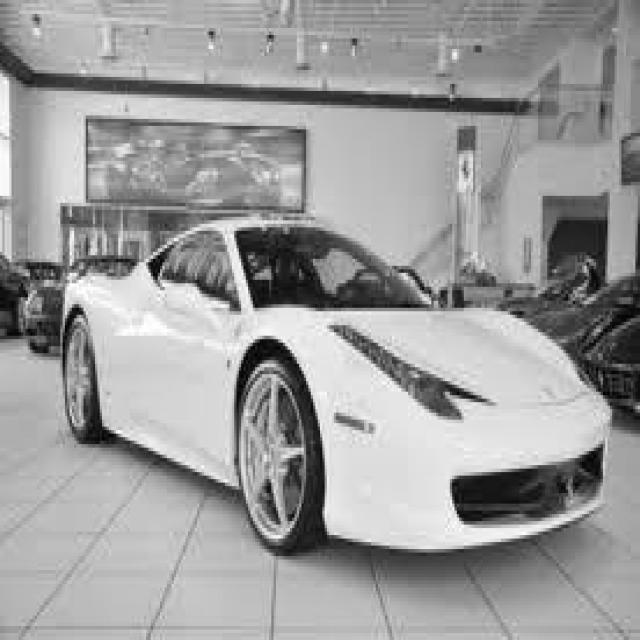car: (58, 210, 612, 552)
